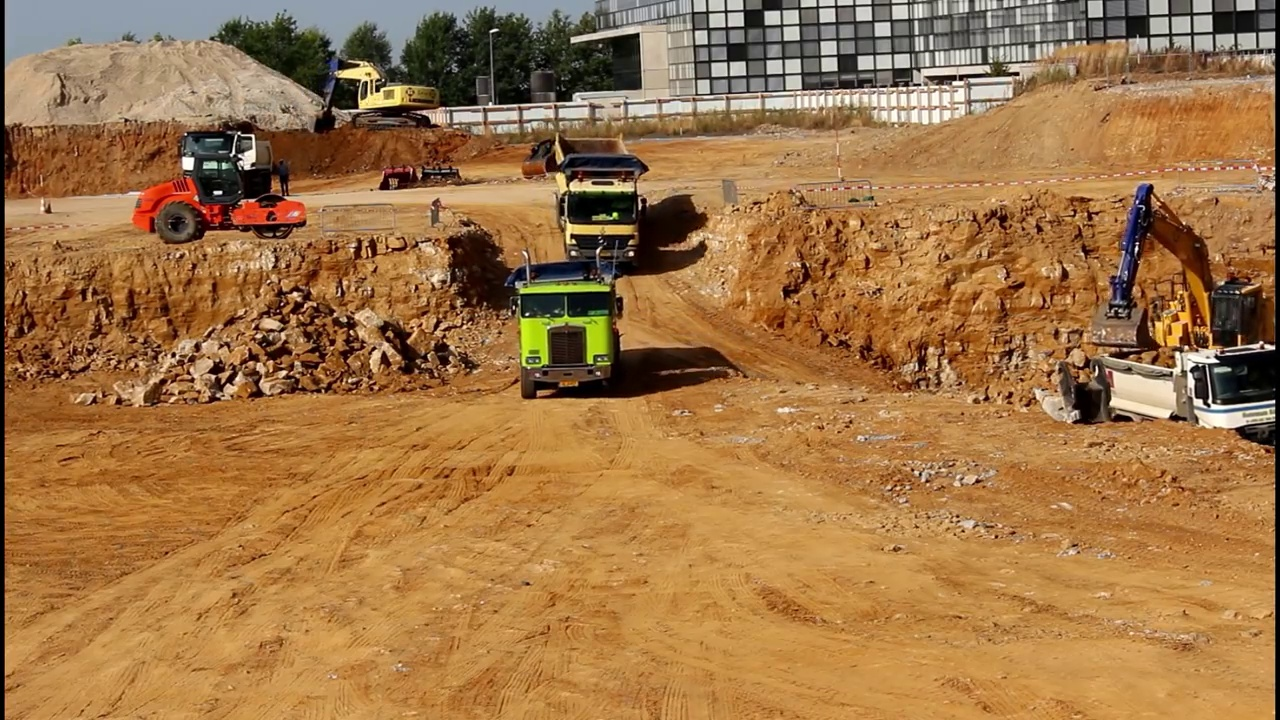compactor: (132, 151, 309, 244)
excavator: (1083, 178, 1280, 383), (306, 50, 440, 137)
truck: (1080, 328, 1280, 470), (504, 237, 632, 403), (546, 127, 654, 265), (173, 114, 283, 200)
worker: (276, 154, 294, 202)
